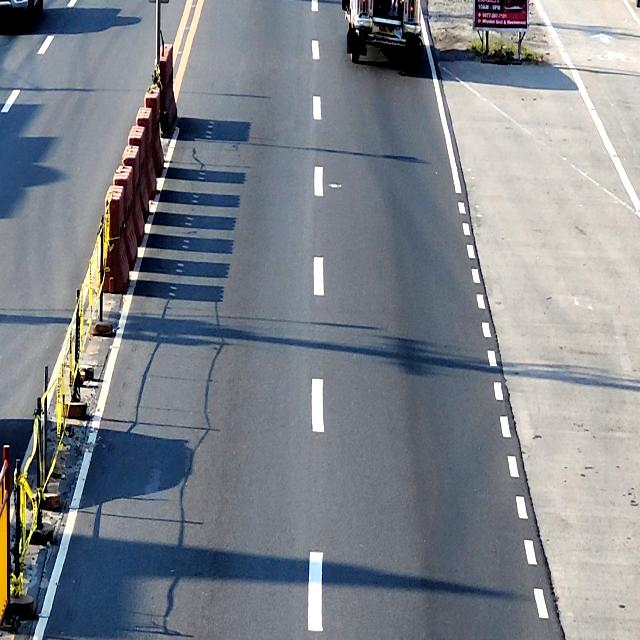Jeep: (343, 0, 422, 63)
License-Plate: (378, 22, 396, 36)
